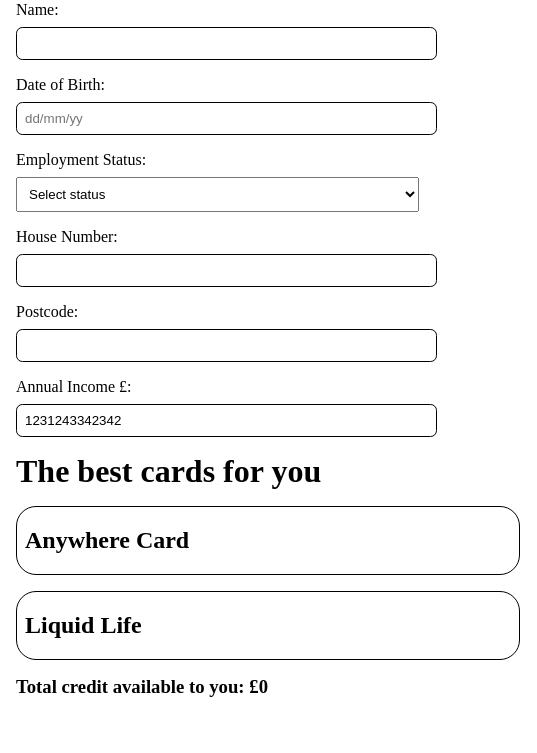
Test: adds liquid credit (£3000) to total when card clicked
Click the element showing "Liquid Life" at coordinates (268, 625), box [16,591,520,660]
(page scrolled)
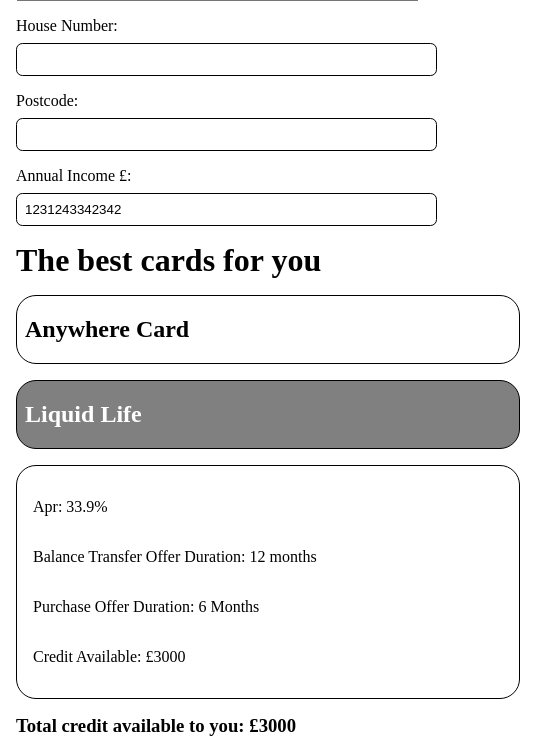
Expected: the heading "Total credit available to you: £3000" is shown, [16,715,296,736]
